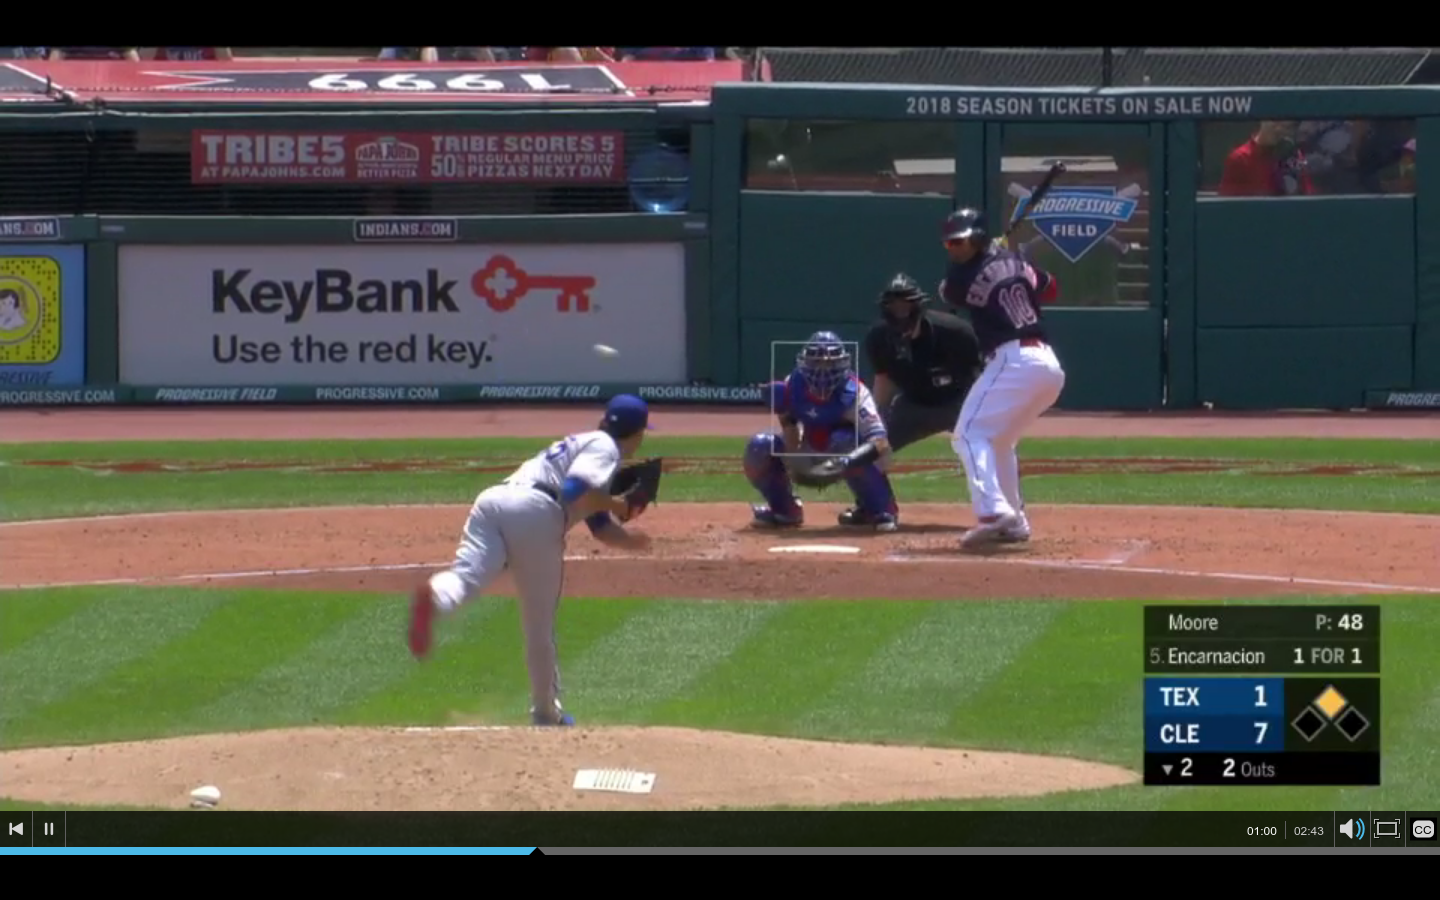baseball: (590, 337, 627, 366)
baseball bat: (999, 154, 1073, 248)
baseball player: (402, 392, 673, 732), (939, 208, 1061, 556), (735, 336, 907, 534)
referee: (855, 271, 1005, 532)
